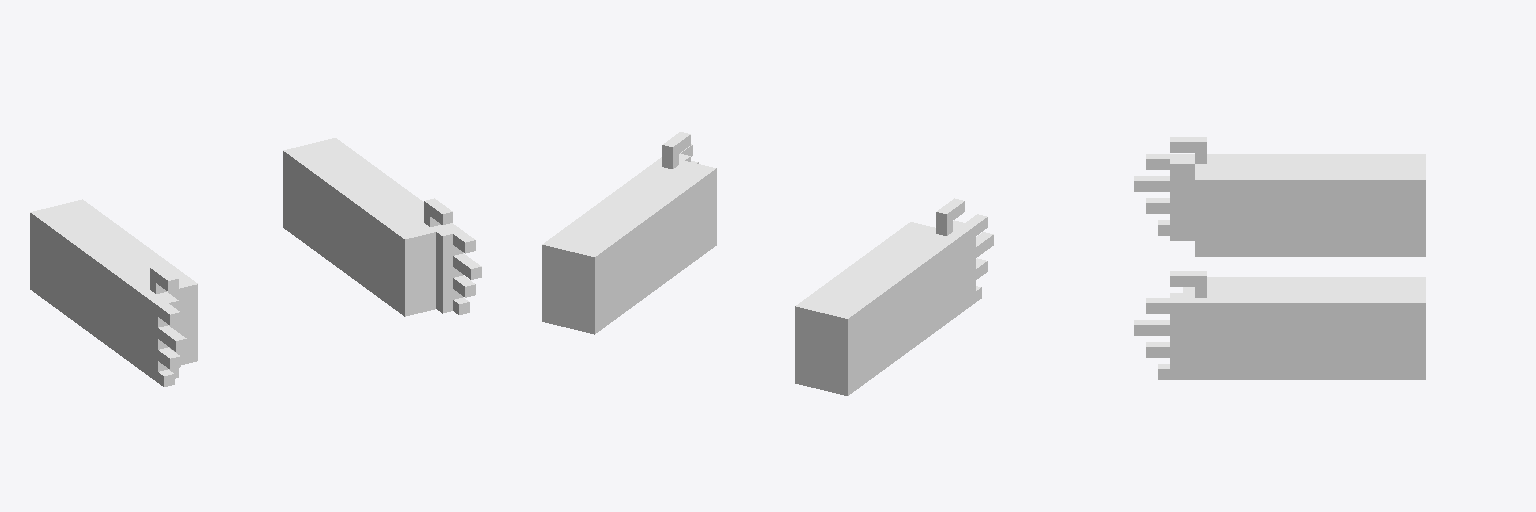
The model's file is Hands.obj.
3 views of the same model, side by side, from view 1: azimuth 30°, elevation 25°; view 2: azimuth 150°, elevation 25°; view 3: azimuth 270°, elevation 25° (orthographic).
Parts seen in each view (by area): view 1: object 1; view 2: object 1; view 3: object 1.
Boxes of the visible parts, x1,y1,x2,y2 form: object 1: [30, 138, 481, 386]; object 1: [542, 132, 993, 395]; object 1: [1134, 137, 1425, 379].
Bounding box in the file's own units: 2.9 × 0.9 × 2.4.